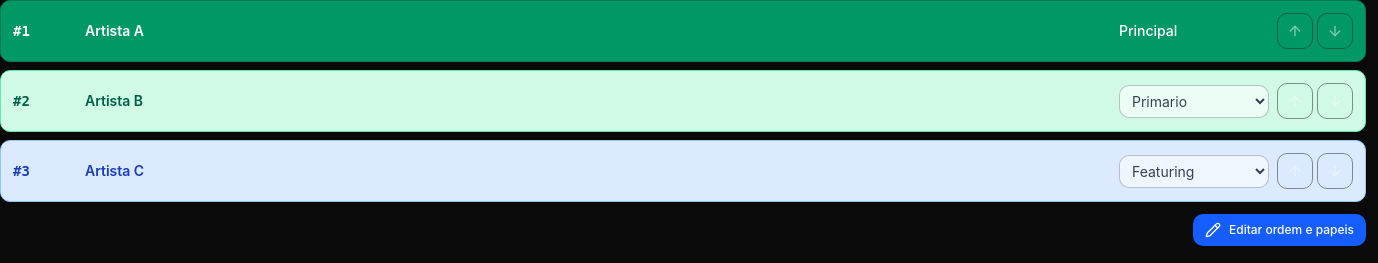
ParticipantCreditsEditor › shows the three visual role levels and lets the user reorder artists
Click the button "Editar ordem e papeis" at (1280, 230), box [1193,214,1366,246]
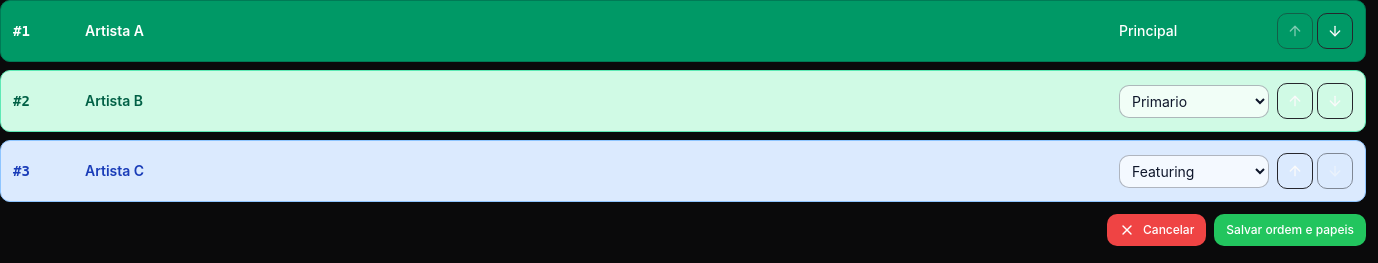
Click the button named "subir artista b" at (1295, 101), box [1277,83,1313,119]
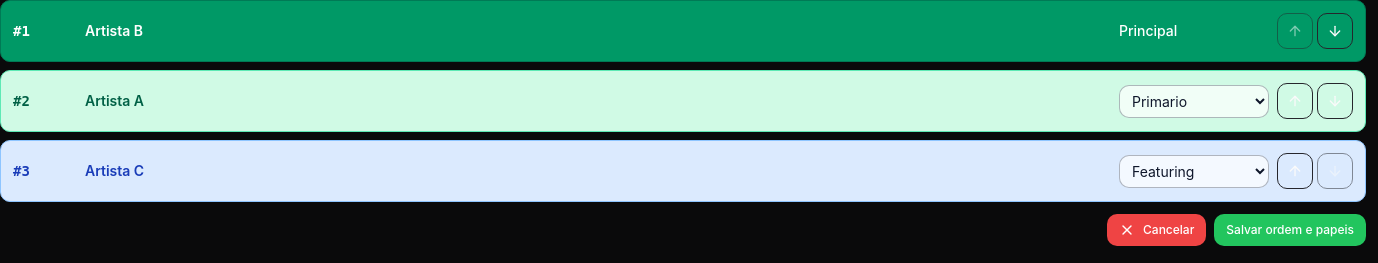
Expected: the text "Artista B" shows "Principal", [1119,22,1177,39]
Expected: the text "Artista B" shows "#1", [0,0,1366,62]
